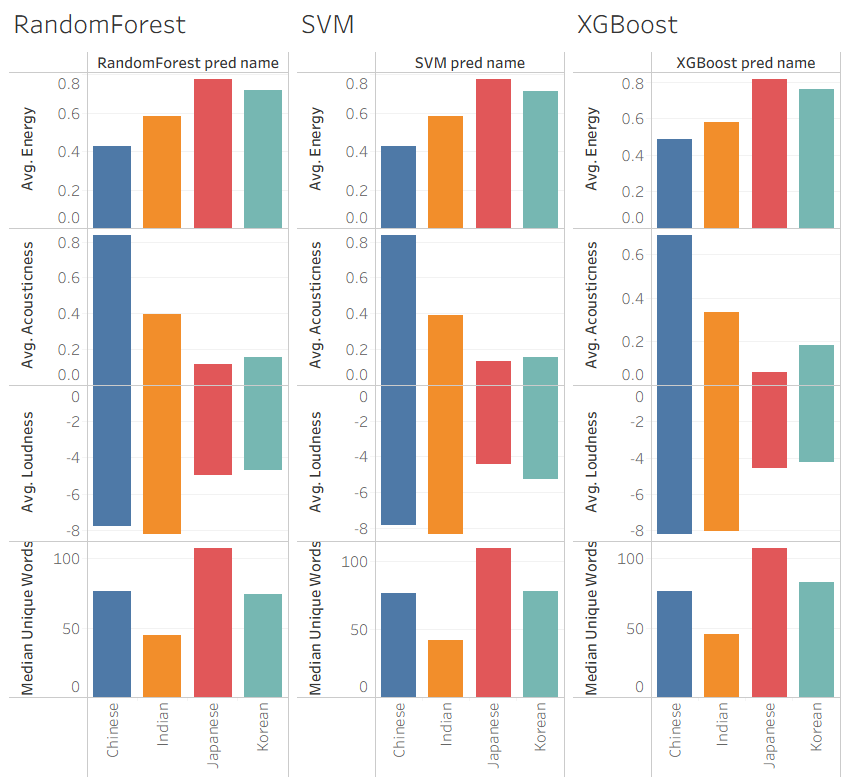

The page's visual inventory and layout, read from the dashboard file:
{"tool":"tableau","page":{"name":"Dashboard 1","canvas":[1000,800],"ordinal":0},"visuals":[{"type":"legend","title":"SVM Features","param":"[federated.1cece7o1h2fiu11dlyucm1n8hyrb].[none:SVM_pred_name:nk]","box":[8,8,144,784]},{"type":"worksheet","title":"RandomForest Features","mark":"Automatic","rows":["energy","acousticness","loudness","unique_words"],"cols":["RandomForest_pred_name"],"box":[152,8,288,784]},{"type":"worksheet","title":"SVM Features","mark":"Automatic","rows":["energy","acousticness","loudness","unique_words"],"cols":["SVM_pred_name"],"box":[440,8,276,784]},{"type":"worksheet","title":"XGBoost Features","mark":"Automatic","rows":["energy","acousticness","loudness","unique_words"],"cols":["XGBoost_pred_name"],"box":[716,8,276,784]}]}

Visuals, with their boxes on the page's 1000x800 design canvas (x1, y1, x2, y2). These are canvas units, not pixel positions in the 846x782 screenshot, which may show the page scaled, cropped or inside an application window:
"SVM Features" legend: x1=8, y1=8, x2=152, y2=792
"RandomForest Features" worksheet: x1=152, y1=8, x2=440, y2=792
"SVM Features" worksheet: x1=440, y1=8, x2=716, y2=792
"XGBoost Features" worksheet: x1=716, y1=8, x2=992, y2=792
